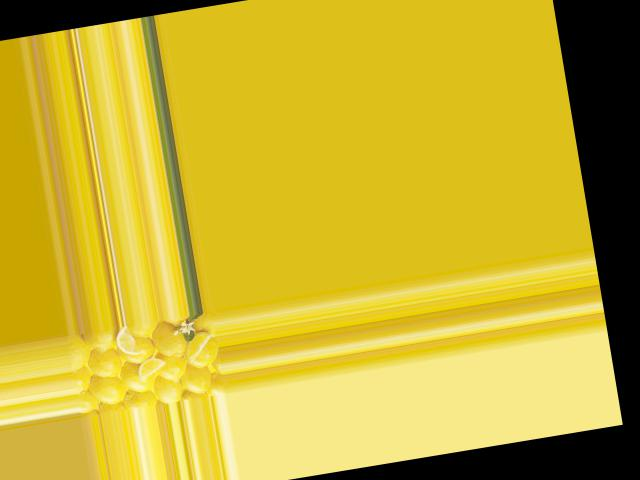lemon: (83, 327, 119, 359)
